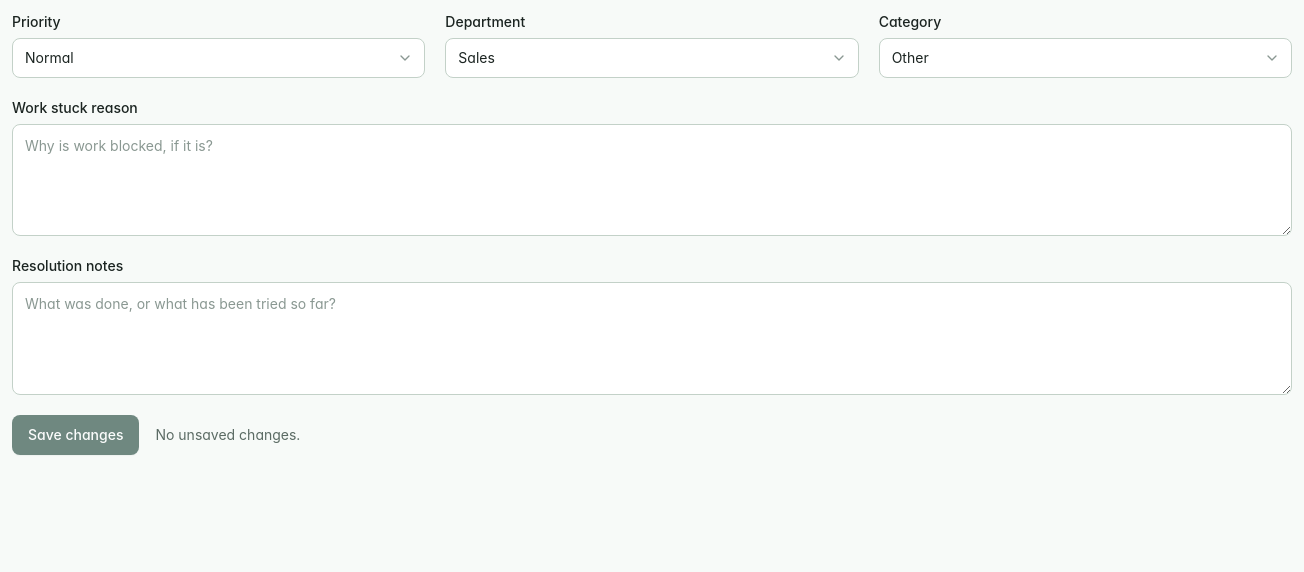
it: EditComplaintForm › maps server field errors onto the fields
Select "HR" in the dropdown labelled "Department" at (652,58), box [445,38,859,78]
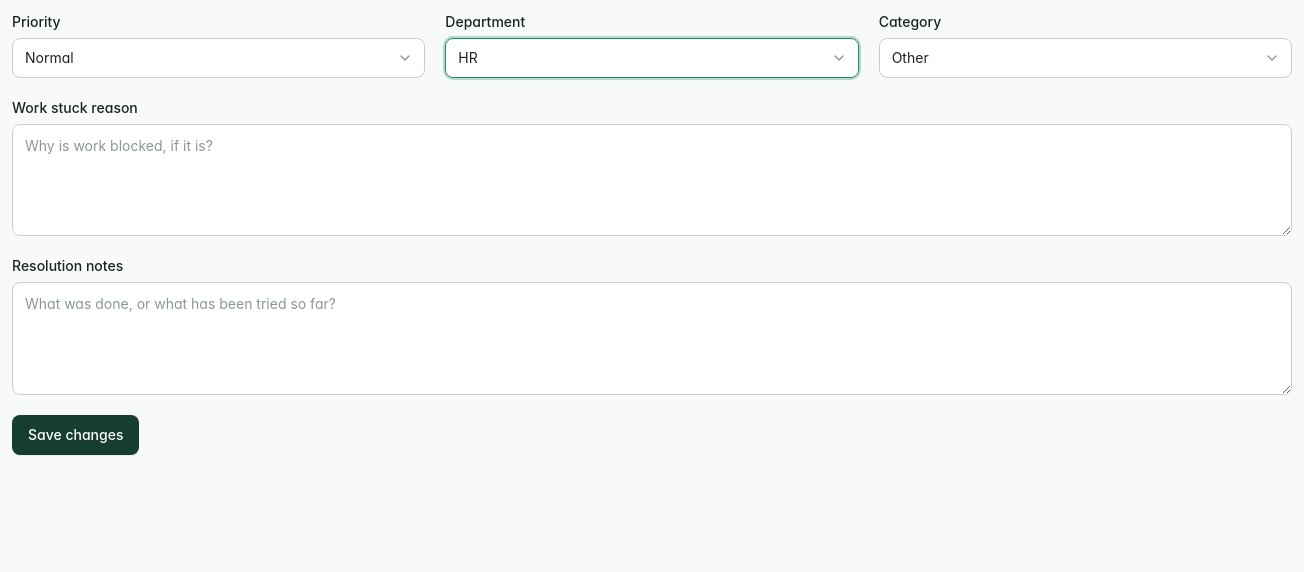
Click the button "Save changes" at (76,435), box [12,415,140,455]
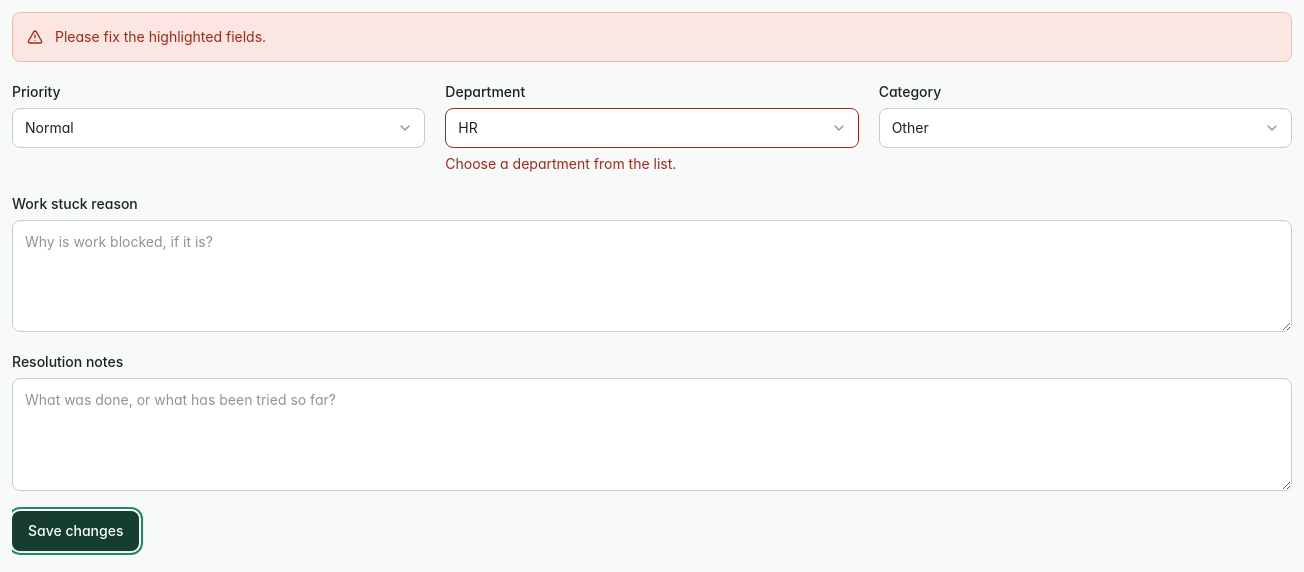
Expected: the text "Choose a department from the list." is shown, [445,155,676,172]
